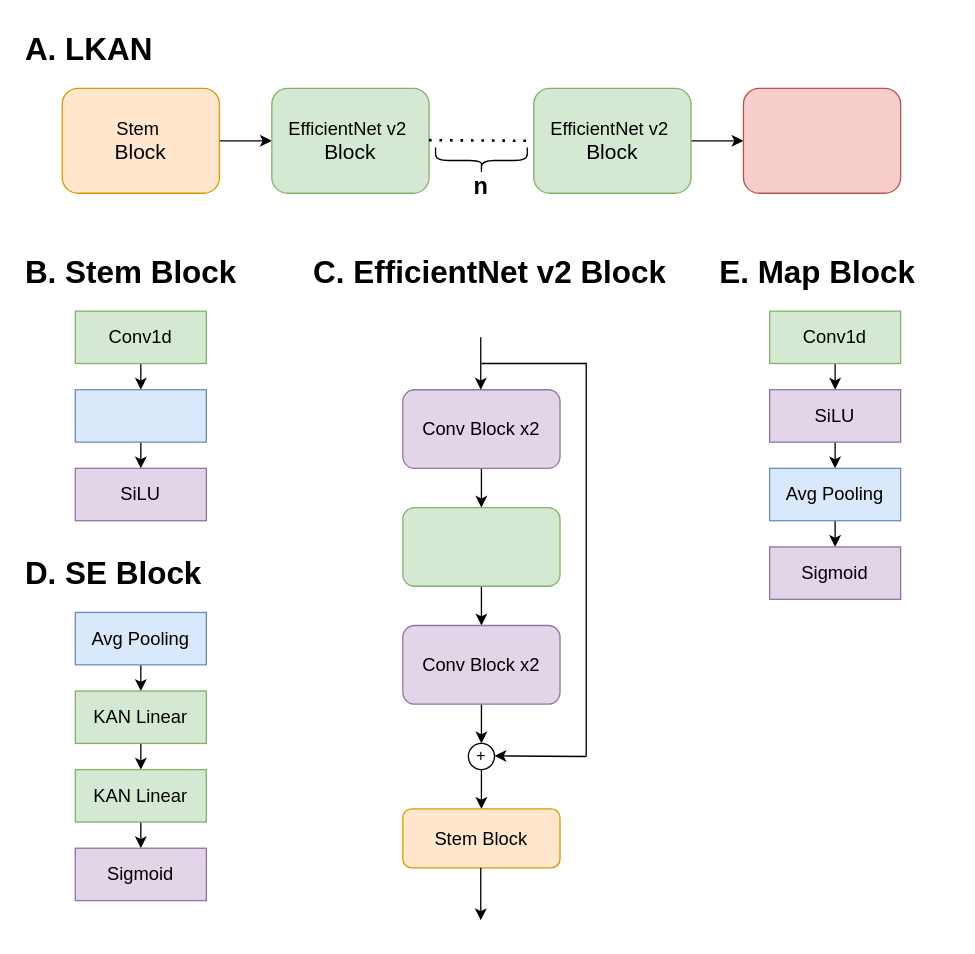
Image size: 975x954. Some labels were removed from this diagram. Here are the shapes that lost their labels. From the top down, the centre of each, then its label:
At (x=821, y=140): "Map Layer".
At (x=140, y=415): "BatchNorm1d".
At (x=481, y=546): "SE Block".
